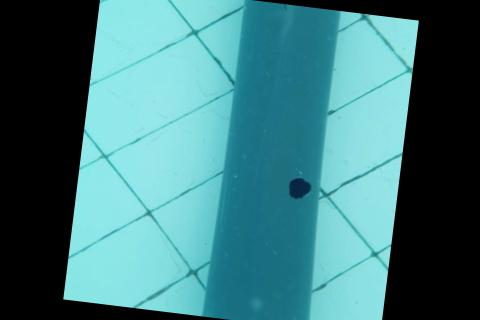kebocoran: (284, 176, 311, 202)
